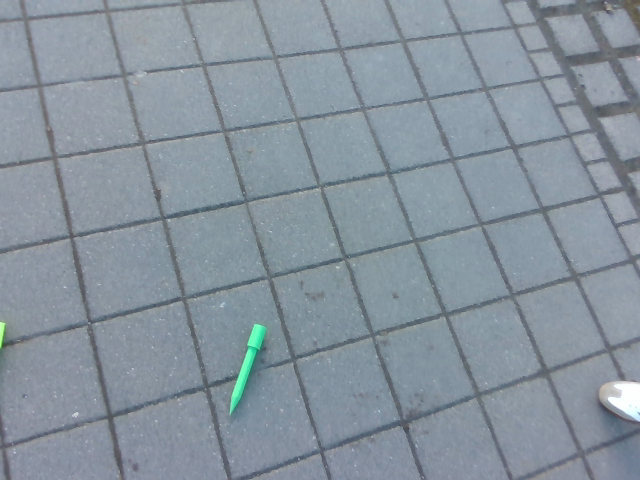Probe: (222, 318, 274, 422)
